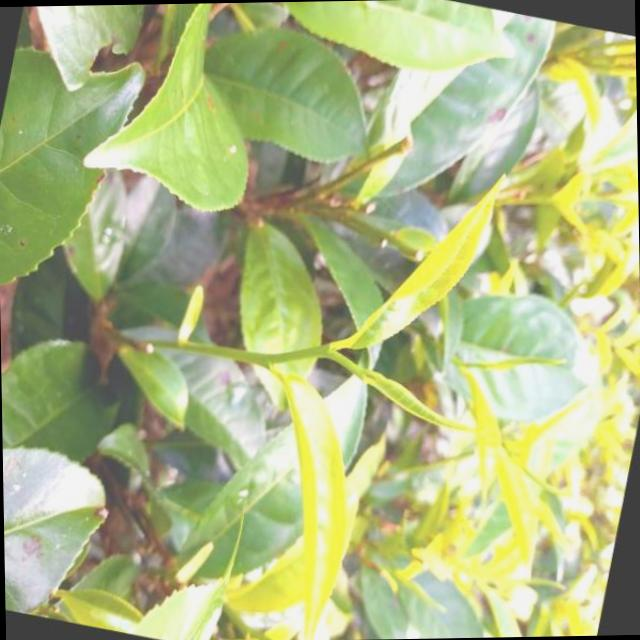Stem: (318, 343, 332, 357)
